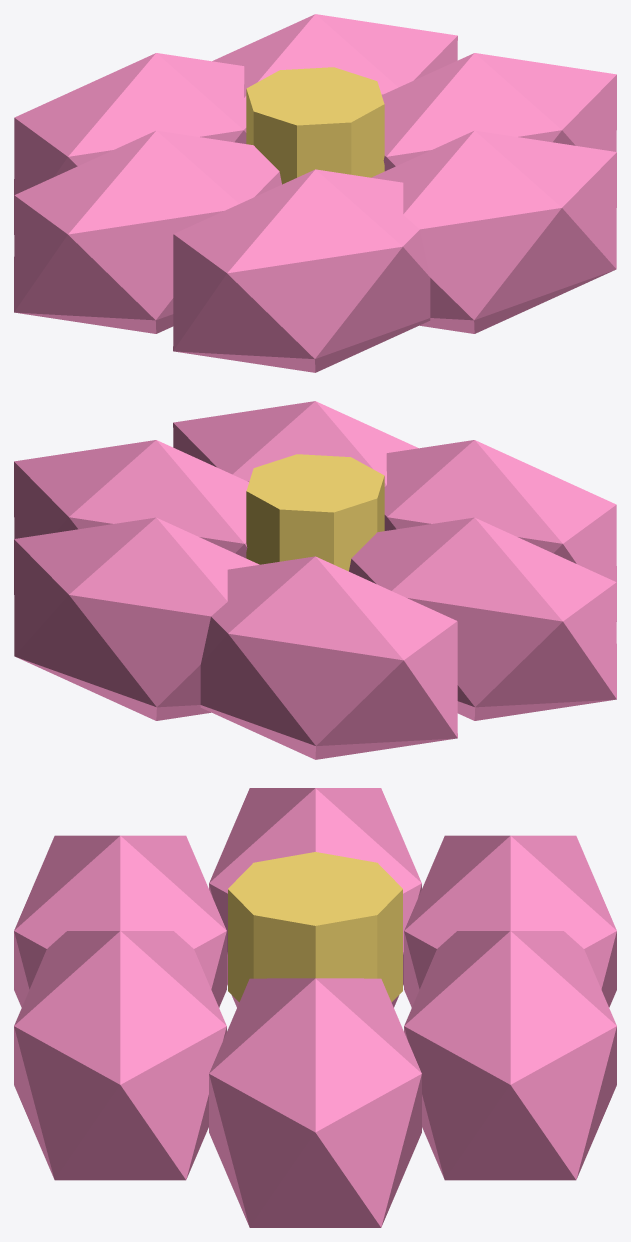
3 renders of one model, top to bottom at view 1: azimuth 30°, elevation 25°; view 2: azimuth 150°, elevation 25°; view 3: azimuth 270°, elevation 25°, orthographic. The views are drawn at different scales.
Visible parts, largest first — view 1: Petal.004, Petal.005, Petal.003, Petal, Petal.002, Flower core, Petal.001; view 2: Petal.002, Petal.001, Petal.003, Petal, Petal.004, Flower core, Petal.005; view 3: Petal, Petal.001, Petal.005, Flower core, Petal.002, Petal.004, Petal.003.
Boxes of the visible parts, x1,y1,x2,y2 form: Petal.004: (173, 169, 430, 372); Petal.005: (371, 130, 616, 333); Petal.003: (14, 130, 281, 333); Petal: (382, 53, 616, 171); Petal.002: (14, 53, 246, 234); Flower core: (246, 67, 384, 184); Petal.001: (212, 14, 457, 99); Petal.002: (200, 556, 457, 759); Petal.001: (14, 517, 259, 720); Petal.003: (349, 517, 616, 720); Petal: (14, 440, 248, 558); Petal.004: (384, 440, 616, 621); Flower core: (246, 454, 384, 571); Petal.005: (173, 401, 418, 486); Petal: (209, 978, 421, 1227); Petal.001: (404, 931, 616, 1180); Petal.005: (14, 931, 226, 1180); Flower core: (228, 852, 402, 1002); Petal.002: (404, 835, 616, 1007); Petal.004: (14, 835, 226, 1007); Petal.003: (209, 788, 421, 1007).
Size of the model in its own units: 0.341 by 0.11 by 0.2409.
1 material, 1 textured.
